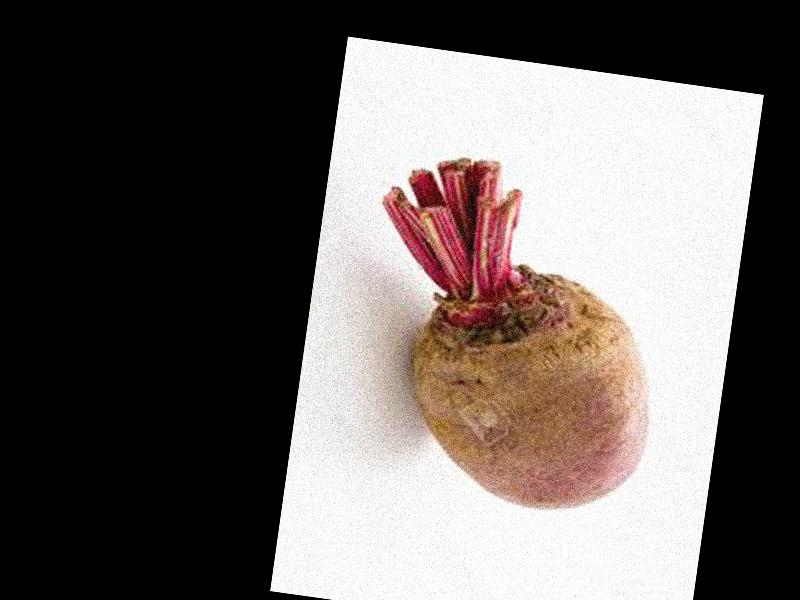Beet: (340, 146, 683, 523)
